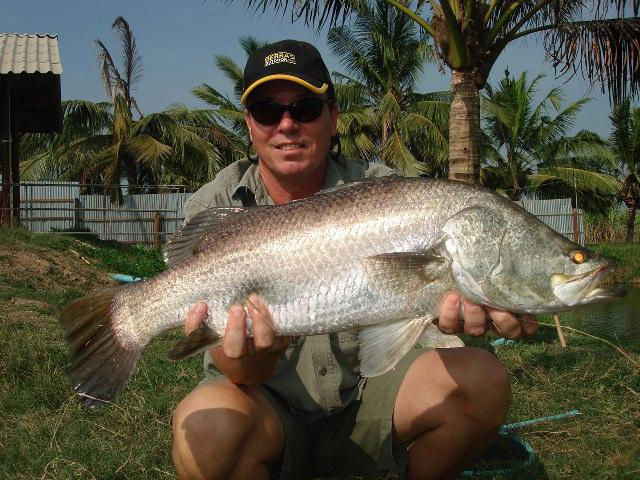Mulut: (548, 222, 640, 330)
Sirip Anal: (152, 314, 228, 382)
Sirip Dada: (347, 234, 457, 310)
Sirip Ekor: (46, 274, 152, 428)
Sirip Perut: (342, 304, 468, 398)
Sirip Punggung: (148, 160, 410, 282)
